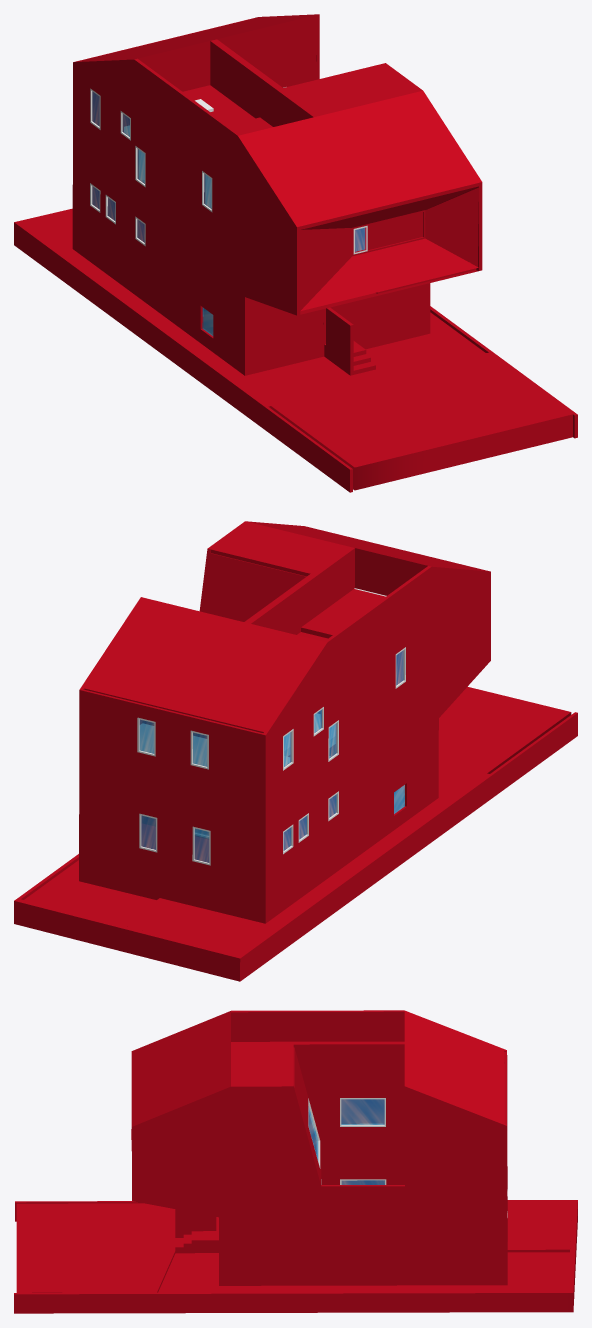
File: asset.glb
3 views of the same model, one above another, from view 1: azimuth 30°, elevation 25°; view 2: azimuth 150°, elevation 25°; view 3: azimuth 270°, elevation 25° (orthographic). The views are drawn at different scales.
Parts seen in each view (by area): view 1: 3D_FACADE_BLACK, 3D_FIRST FLOOR, 3D_FACADE_REFLECTIVE, 3D_SURROUNDING CONTEXT, 3D_WALL, 3D_WINDOW FRAMES, 3d_Glass, 3D_TURF, 3D_FACADE_REFLECTIVE.001, 3D_FLOOR, Windows frames, 3D_FACADE_WHITE; view 2: 3D_FACADE_BLACK, 3D_FIRST FLOOR, 3D_SURROUNDING CONTEXT, 3D_FACADE_WHITE, 3D_TURF, 3d_Glass, 3D_FLOOR, 3D_WINDOW FRAMES, Windows frames, 3D_WALL; view 3: 3D_FACADE_BLACK, 3D_FIRST FLOOR, 3D_SURROUNDING CONTEXT, 3D_FACADE_WHITE, 3D_TURF, 3d_Glass, Windows frames.
Boxes of the visible parts, x1,y1,x2,y2 form: 3D_FACADE_BLACK: [72, 14, 482, 363]; 3D_FIRST FLOOR: [31, 212, 572, 490]; 3D_FACADE_REFLECTIVE: [300, 186, 478, 314]; 3D_SURROUNDING CONTEXT: [14, 208, 577, 492]; 3D_WALL: [141, 18, 316, 91]; 3D_WINDOW FRAMES: [210, 44, 309, 126]; 3d_Glass: [92, 91, 423, 251]; 3D_TURF: [366, 312, 485, 369]; 3D_FACADE_REFLECTIVE.001: [425, 187, 478, 266]; 3D_FLOOR: [124, 85, 476, 293]; Windows frames: [90, 87, 425, 336]; 3D_FACADE_WHITE: [210, 39, 282, 91]; 3D_FACADE_BLACK: [79, 521, 490, 911]; 3D_FIRST FLOOR: [79, 686, 571, 950]; 3D_SURROUNDING CONTEXT: [14, 712, 577, 981]; 3D_FACADE_WHITE: [203, 553, 317, 756]; 3D_TURF: [24, 860, 156, 924]; 3d_Glass: [139, 650, 403, 862]; 3D_FLOOR: [140, 588, 386, 766]; 3D_WINDOW FRAMES: [254, 552, 354, 634]; Windows frames: [137, 647, 405, 865]; 3D_WALL: [142, 551, 424, 838]; 3D_FACADE_BLACK: [131, 1010, 507, 1272]; 3D_FIRST FLOOR: [16, 1201, 571, 1292]; 3D_SURROUNDING CONTEXT: [14, 1200, 577, 1313]; 3D_FACADE_WHITE: [293, 1041, 404, 1184]; 3D_TURF: [158, 1252, 569, 1292]; 3d_Glass: [308, 1099, 384, 1184]; Windows frames: [308, 1098, 507, 1217].
Size of the model in its own units: 8.07 by 8.79 by 20.69.
6 materials, 1 textured.
